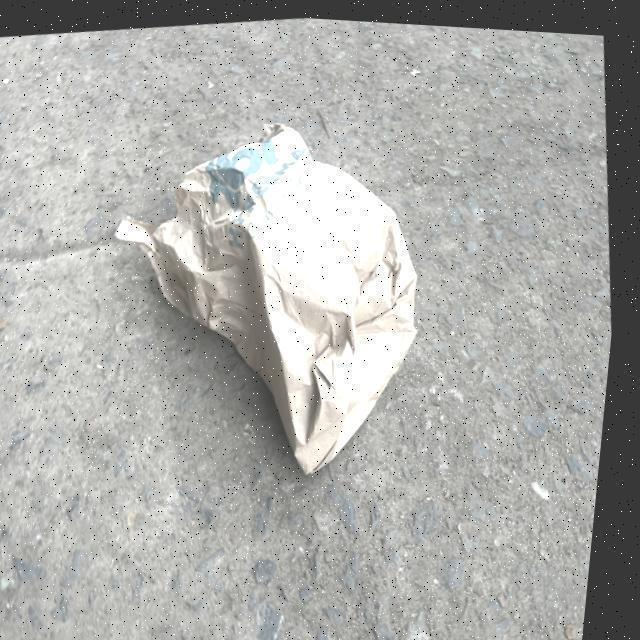Paper_Bag: (88, 93, 458, 500)
